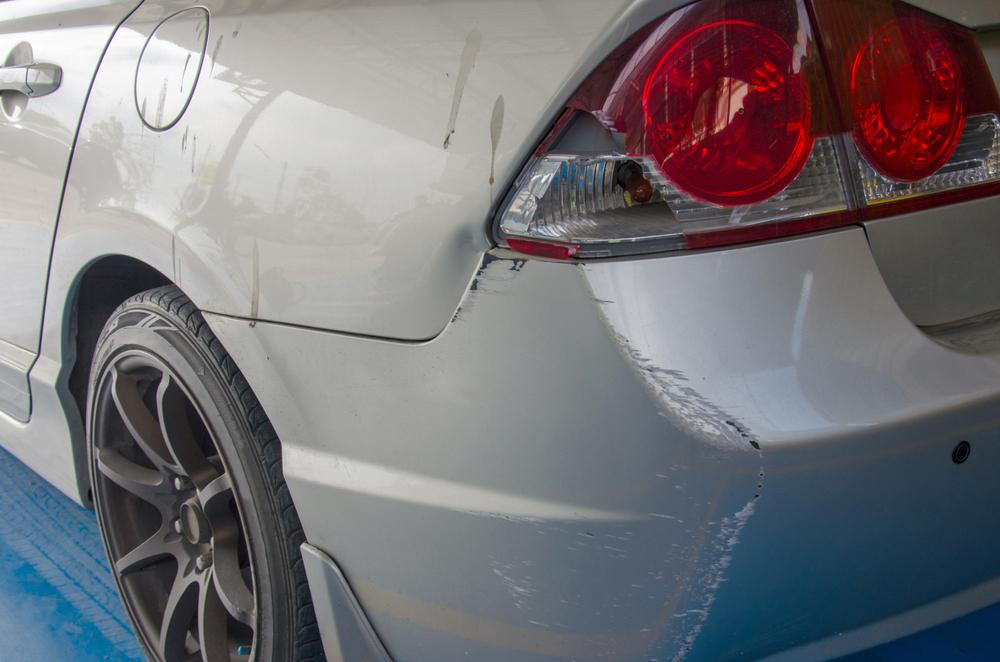lamp broken: (497, 0, 856, 258)
scratch: (487, 289, 772, 662), (450, 252, 532, 321)
